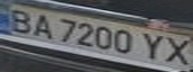0: (112, 27, 139, 57), (90, 24, 115, 53)
2: (72, 20, 96, 51)
7: (51, 16, 78, 47)
A: (24, 11, 57, 42)
B: (0, 6, 39, 35)
X: (160, 34, 193, 69)
Y: (136, 30, 172, 63)
